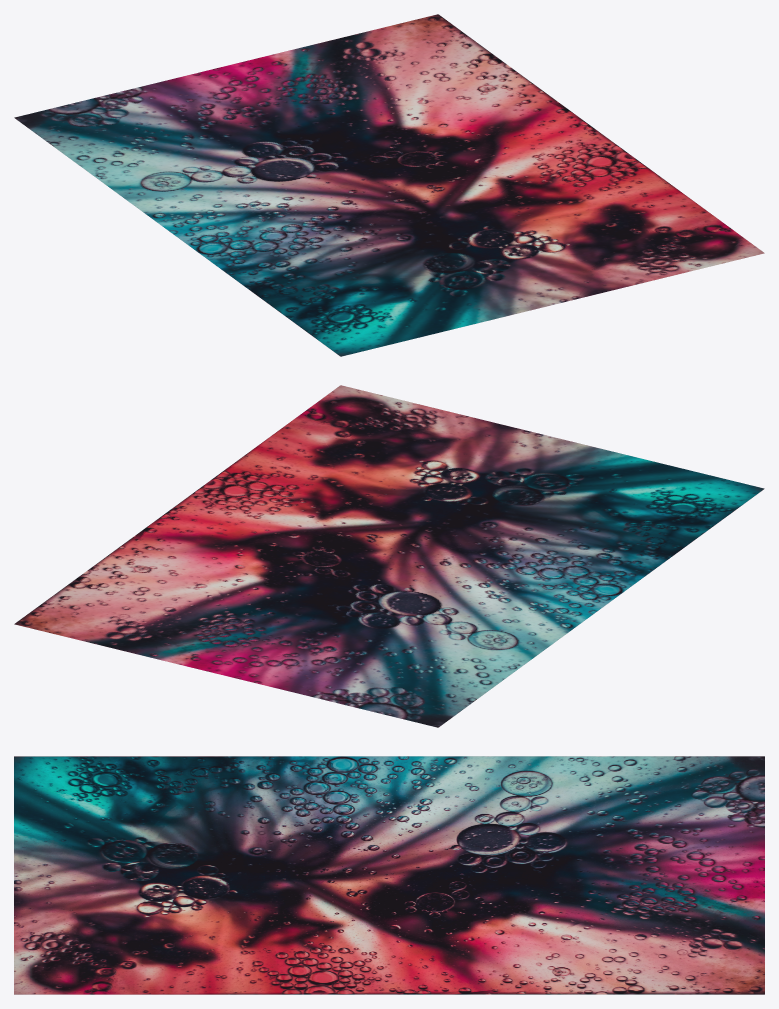
The picture shows the model from 3 angles, top to bottom: view 1: azimuth 30°, elevation 25°; view 2: azimuth 150°, elevation 25°; view 3: azimuth 270°, elevation 25°; orthographic projection. The views are drawn at different scales.
Visible parts, largest first — view 1: Plane.025, Plane, Plane.008, Plane.039, Plane.011, Plane.017, Plane.016, Plane.009, Plane.057, Plane.024, Plane.020, Plane.022 (+46 smaller); view 2: Plane.025, Plane, Plane.008, Plane.039, Plane.011, Plane.017, Plane.016, Plane.057, Plane.024, Plane.009, Plane.020, Plane.022 (+46 smaller); view 3: Plane.025, Plane, Plane.008, Plane.011, Plane.039, Plane.017, Plane.016, Plane.024, Plane.057, Plane.009, Plane.020, Plane.022 (+46 smaller).
Part boxes in pixels (x1,y1,x2,y2): Plane.025: (472, 257, 607, 313); Plane: (380, 14, 462, 90); Plane.008: (358, 188, 489, 244); Plane.039: (274, 77, 389, 119); Plane.011: (446, 76, 564, 127); Plane.017: (391, 122, 524, 173); Plane.016: (457, 125, 576, 178); Plane.009: (202, 142, 357, 187); Plane.057: (232, 48, 327, 109); Plane.024: (537, 125, 653, 177); Plane.020: (432, 233, 580, 275); Plane.022: (464, 212, 616, 255); Plane.025: (428, 431, 585, 480); Plane: (14, 604, 196, 638); Plane.008: (373, 511, 490, 566); Plane.039: (169, 591, 291, 638); Plane.011: (99, 531, 222, 578); Plane.017: (198, 537, 352, 569); Plane.016: (192, 512, 331, 537); Plane.057: (154, 636, 297, 665); Plane.024: (166, 466, 281, 512); Plane.009: (347, 567, 454, 631); Plane.020: (449, 448, 533, 511); Plane.022: (336, 458, 455, 503); Plane.025: (14, 856, 128, 925); Plane: (614, 929, 764, 994); Plane.008: (224, 859, 400, 907); Plane.011: (470, 949, 570, 994); Plane.039: (552, 870, 667, 935); Plane.017: (378, 886, 470, 966); Plane.016: (330, 910, 452, 983); Plane.024: (270, 949, 414, 994); Plane.057: (634, 863, 764, 923); Plane.009: (402, 804, 541, 862); Plane.020: (101, 858, 243, 912); Plane.022: (130, 877, 228, 953).
Bounding box in the file's own units: 24 × 0 × 32.
Materials: 1 (1 with a texture image).
